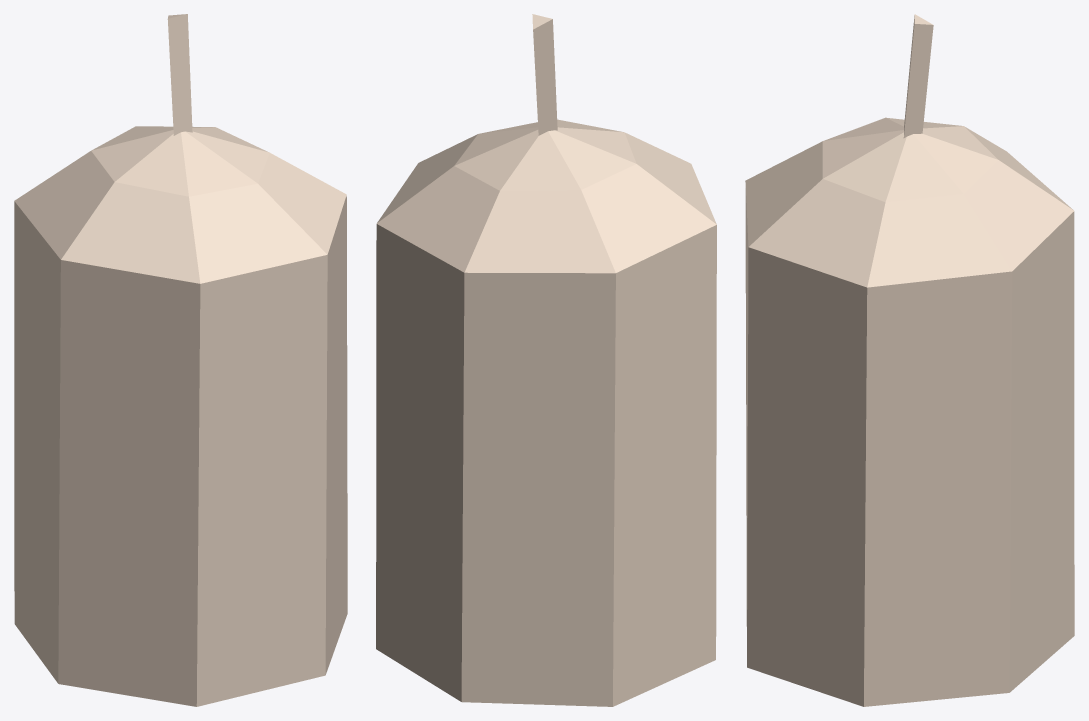
Rendered from candle.glb.
3 views of the same model, side by side, from view 1: azimuth 30°, elevation 25°; view 2: azimuth 150°, elevation 25°; view 3: azimuth 270°, elevation 25° (orthographic). The views are drawn at different scales.
Visible parts, largest first — view 1: candle; view 2: candle; view 3: candle.
Boxes of the visible parts, x1=… form: candle: x1=14, y1=14, x2=347, y2=706; candle: x1=376, y1=14, x2=716, y2=706; candle: x1=745, y1=14, x2=1074, y2=706.
Size of the model in its own units: 0.0838 by 0.1693 by 0.0818.
Materials: 1 (1 with a texture image).
